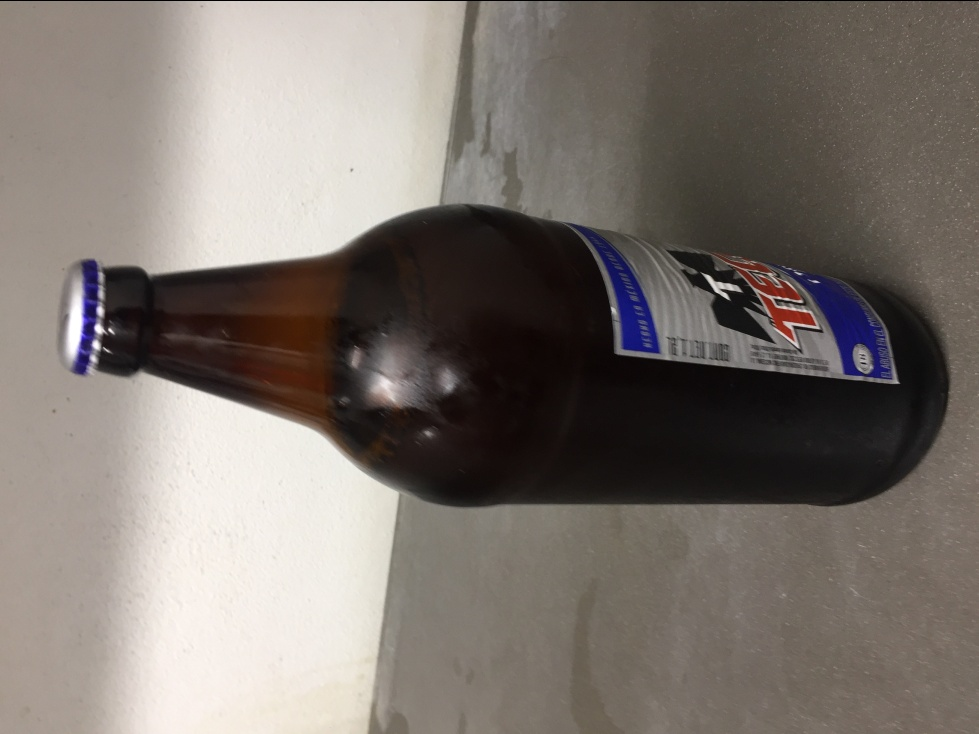tecateC: (53, 203, 954, 517)
